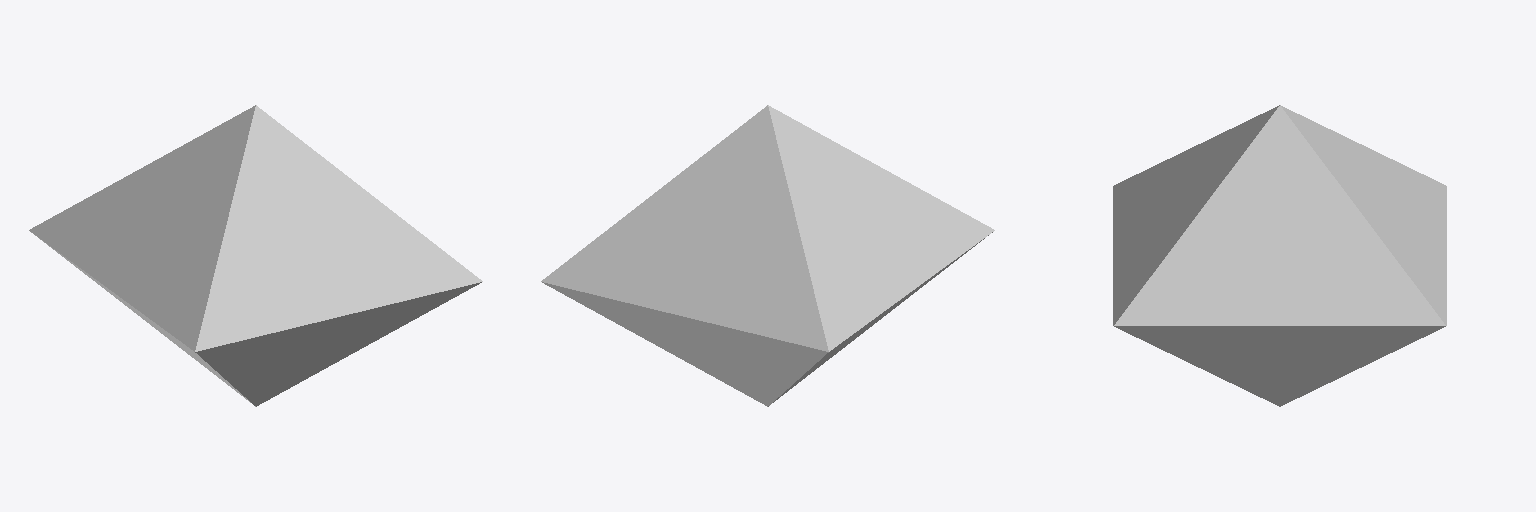
Rendered from blend2.obj.
3 renders of one model, left to right at view 1: azimuth 30°, elevation 25°; view 2: azimuth 150°, elevation 25°; view 3: azimuth 270°, elevation 25°, orthographic.
Parts seen in each view (by area): view 1: Sphere; view 2: Sphere; view 3: Sphere.
Boxes of the visible parts, <box> form: Sphere: <box>29,105,482,406</box>; Sphere: <box>541,105,994,406</box>; Sphere: <box>1113,105,1446,406</box>.
Bounding box in the file's own units: 4 × 4 × 4.